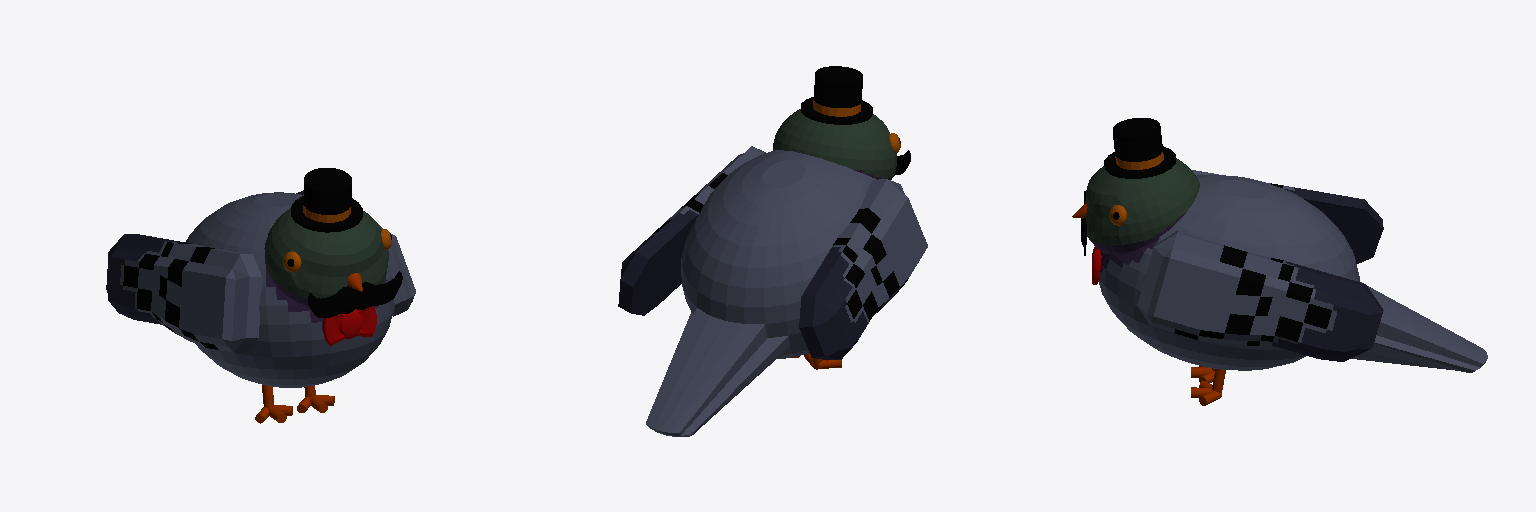
Rendered from SanBasilioPigeon.obj.
3 renders of one model, left to right at view 1: azimuth 30°, elevation 25°; view 2: azimuth 150°, elevation 25°; view 3: azimuth 270°, elevation 25°, orthographic.
Visible parts, largest first — view 1: flyers_l, chunk, head, TopHat, Cylinder001, BoeTie, flyers_R, totsie_L, totsie_R; view 2: chunk, flyers_l, flyers_R, head, TopHat; view 3: chunk, flyers_R, head, TopHat, flyers_l, totsie_R.
Part boxes in pixels (x1,y1,x2,y2): flyers_l: (106, 234, 261, 352); chunk: (185, 192, 393, 387); head: (264, 208, 388, 306); TopHat: (291, 168, 362, 232); Cylinder001: (308, 271, 402, 317); BoeTie: (323, 306, 376, 345); flyers_R: (296, 190, 415, 316); totsie_L: (255, 385, 292, 423); totsie_R: (297, 386, 334, 412); chunk: (646, 150, 877, 436); flyers_l: (799, 179, 927, 360); flyers_R: (618, 146, 765, 315); head: (773, 109, 896, 179); TopHat: (801, 66, 872, 124); chunk: (1099, 175, 1487, 372); flyers_R: (1137, 230, 1383, 361); head: (1086, 158, 1199, 254); TopHat: (1104, 118, 1175, 178); flyers_l: (1192, 170, 1383, 263); totsie_R: (1191, 369, 1225, 405).
Size of the model in its own units: 49.33 by 53.5 by 77.17.